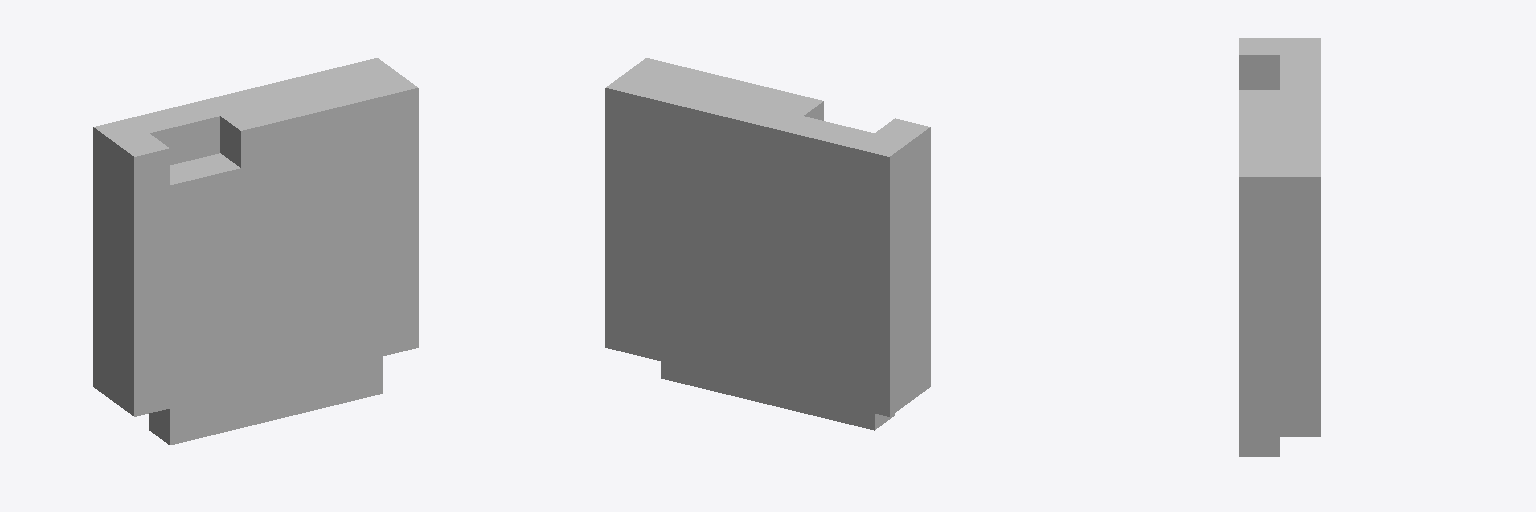
Rendered from cartImposter.obj.
3 views of the same model, side by side, from view 1: azimuth 30°, elevation 25°; view 2: azimuth 150°, elevation 25°; view 3: azimuth 270°, elevation 25° (orthographic).
Size of the model in its own units: 8 by 8 by 2.